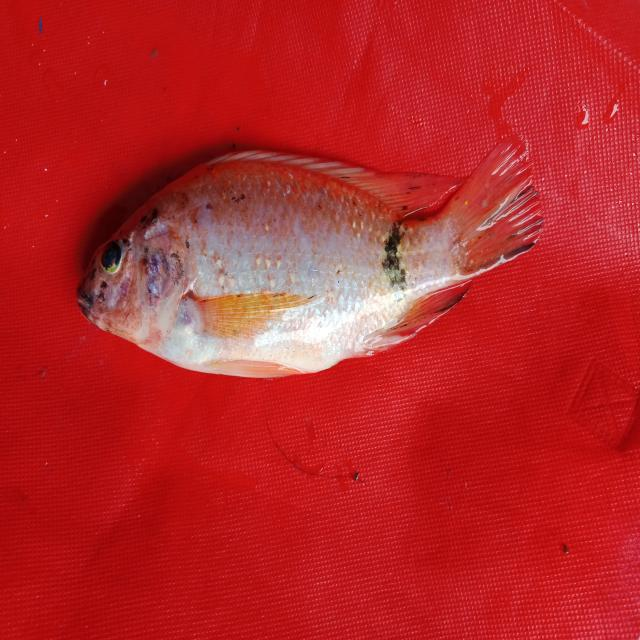ikan: (67, 92, 560, 401)
